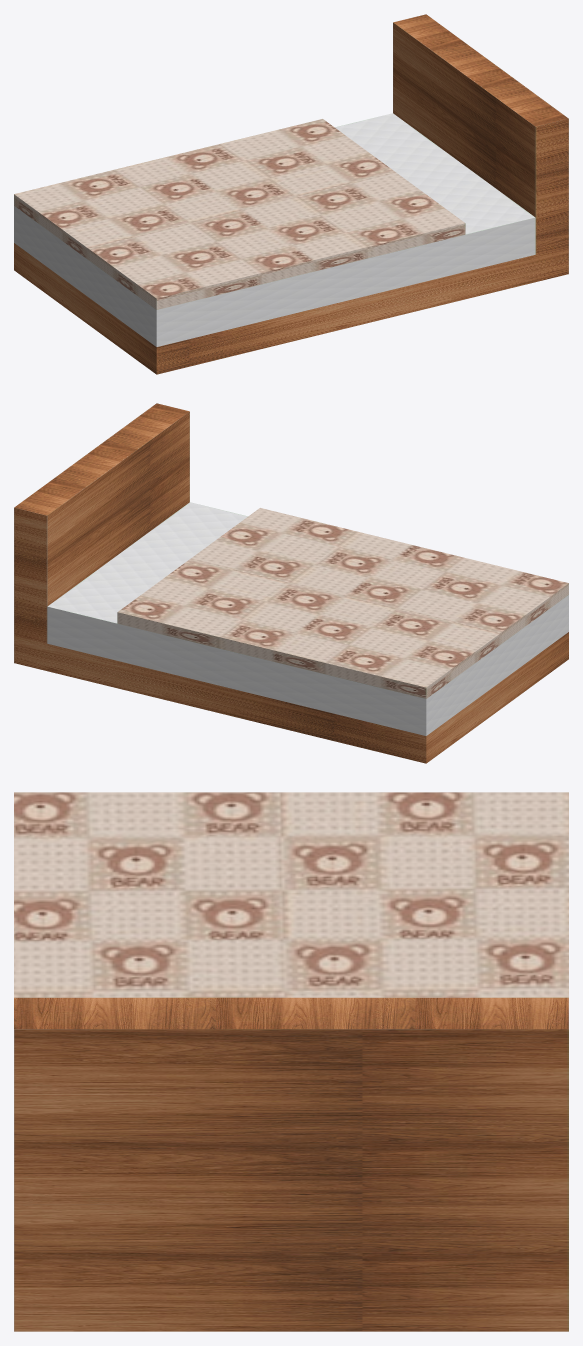
Rendered from SM_Bed.fbx.
The picture shows the model from 3 angles, top to bottom: view 1: azimuth 30°, elevation 25°; view 2: azimuth 150°, elevation 25°; view 3: azimuth 270°, elevation 25°; orthographic projection. The views are drawn at different scales.
Visible parts, largest first — view 1: SM_Bed; view 2: SM_Bed; view 3: SM_Bed.
Part boxes in pixels (x1=…): SM_Bed: x1=14, y1=14, x2=568, y2=374; SM_Bed: x1=14, y1=403, x2=568, y2=763; SM_Bed: x1=14, y1=792, x2=568, y2=1331.
Size of the model in its own units: 13.35 by 4.81 by 8.
